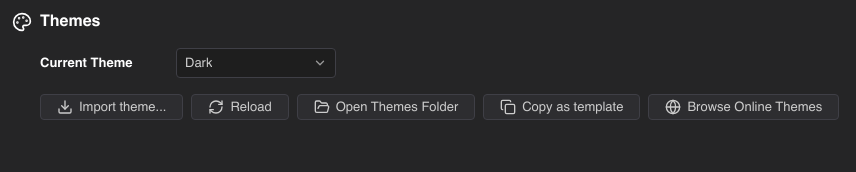
ThemeSettings › imports a theme, selects it and records the choice in the configuration
Step 1. Click the button "Import theme..." → (112, 107), box x1=40 y1=94 x2=183 y2=120
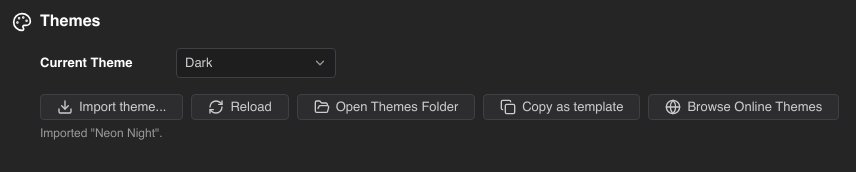
Now the message shows "Imported \"Neon Night\"", box x1=40 y1=128 x2=163 y2=140
